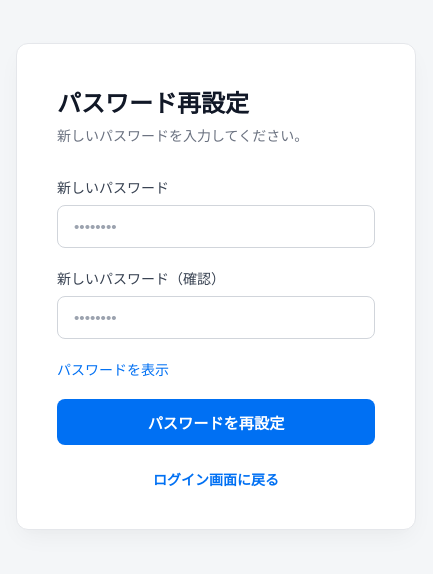
Test: ResetPasswordForm 表示・入力検証 › 未入力の場合、入力エラーを表示すること
Click the button "パスワードを再設定". click: coordinates (216, 422)
box: [57,398,375,444]
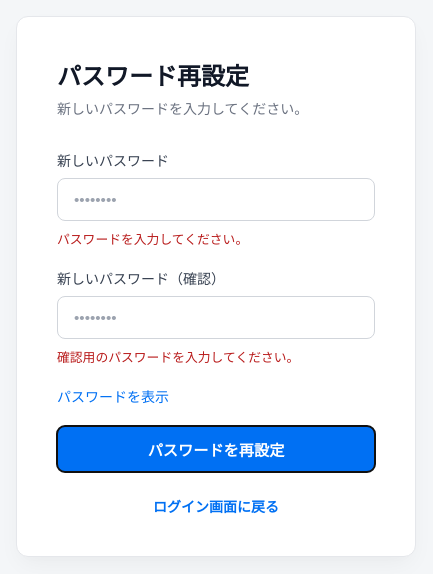
Expected: the text "パスワードを入力してください。" is shown, [57,232,248,246]
Expected: the text "確認用のパスワードを入力してください。" is shown, [57,350,299,364]
